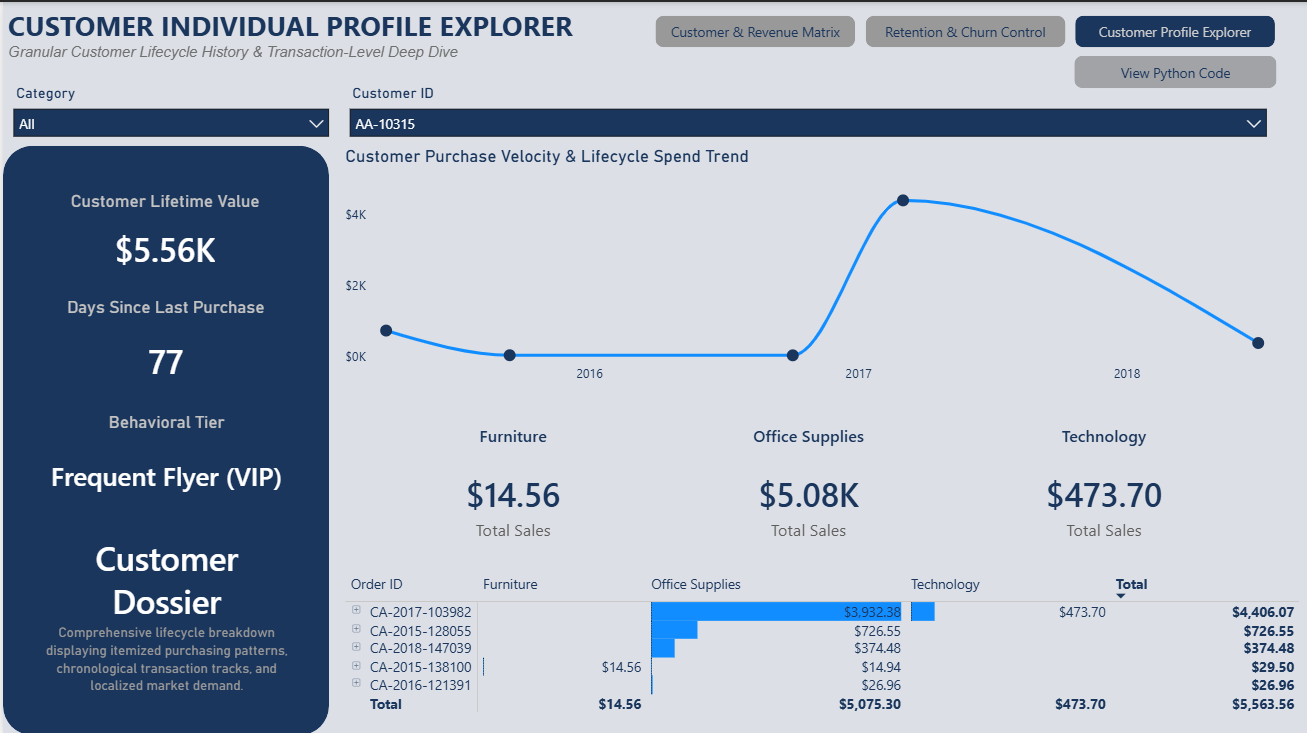

This screenshot's page, from the dashboard's own definition file:
{"tool":"powerbi","page":{"name":"Customer Profile Explorer","canvas":[1280,720],"ordinal":2},"visuals":[{"type":"shape","box":[0,141.2,320,578.8],"z":0},{"type":"cardVisual","title":"Customer Lifetime Value","fields":{"Data":["_Calculated Measures.Total Sales"]},"box":[2.5,185,313.8,92.5],"z":1000},{"type":"textbox","box":[36.8,519,247.9,174.2],"z":2000},{"type":"cardVisual","title":"Days Since Last Purchase","fields":{"Data":["_Calculated Measures.Days Inactive Card"]},"box":[10,290,300,103.8],"z":3000},{"type":"textbox","box":[0,0,586.5,112.9],"z":4000},{"type":"slicer","title":"Category","fields":{"Values":["Sheet1.Category"]},"box":[0,76.1,330.1,65],"z":5000},{"type":"pageNavigator","box":[640.5,13.5,609.8,31.9],"z":6000},{"type":"actionButton","title":"View Python Code","box":[1051.5,52.8,198.8,31.9],"z":7000},{"type":"slicer","fields":{"Values":["Sheet1.Customer_ID"]},"box":[330.1,76.1,920.3,65],"z":8000},{"type":"lineChart","title":"Customer Purchase Velocity & Lifecycle Spend Trend","fields":{"Y":["_Calculated Measures.Total Sales"],"Category":["Sheet1.Order_Date.Variation.Date Hierarchy.Year","Sheet1.Order_Date.Variation.Date Hierarchy.Quarter","Sheet1.Order_Date.Variation.Date Hierarchy.Month","Sheet1.Order_Date.Variation.Date Hierarchy.Day"]},"box":[331.3,141.1,919,241.7],"z":9000},{"type":"pivotTable","fields":{"Rows":["Sheet1.Order_ID","Sheet1.Product_Name"],"Values":["_Calculated Measures.Total Sales"],"Columns":["Sheet1.Category"]},"box":[331.3,557.1,948.5,163.2],"z":10000},{"type":"cardVisual","title":"Behavioral Tier","fields":{"Data":["Min(Sheet1.Customer Segment)"]},"box":[0,402.5,321.5,104.3],"z":11000},{"type":"cardVisual","fields":{"Data":["_Calculated Measures.Total Sales"],"Rows":["Sheet1.Category"]},"box":[331,402,919,150],"z":12000}]}

Visuals, with their boxes in screenshot pixels (x1, y1, x2, y2), scaled from the page's 1280x720 canvas onto the 1307x733 screenshot:
shape: {"left": 0, "top": 144, "right": 327, "bottom": 732}
"Customer Lifetime Value" cardVisual: {"left": 3, "top": 188, "right": 323, "bottom": 283}
textbox: {"left": 38, "top": 528, "right": 291, "bottom": 706}
"Days Since Last Purchase" cardVisual: {"left": 10, "top": 295, "right": 317, "bottom": 401}
textbox: {"left": 0, "top": 0, "right": 599, "bottom": 115}
"Category" slicer: {"left": 0, "top": 77, "right": 337, "bottom": 144}
pageNavigator: {"left": 654, "top": 14, "right": 1277, "bottom": 46}
"View Python Code" actionButton: {"left": 1074, "top": 54, "right": 1277, "bottom": 86}
slicer - Sheet1.Customer_ID: {"left": 337, "top": 77, "right": 1277, "bottom": 144}
"Customer Purchase Velocity & Lifecycle Spend Trend" lineChart: {"left": 338, "top": 144, "right": 1277, "bottom": 390}
pivotTable - Sheet1.Order_ID x Sheet1.Product_Name: {"left": 338, "top": 567, "right": 1306, "bottom": 732}
"Behavioral Tier" cardVisual: {"left": 0, "top": 410, "right": 328, "bottom": 516}
cardVisual - _Calculated Measures.Total Sales x Sheet1.Category: {"left": 338, "top": 409, "right": 1276, "bottom": 562}
